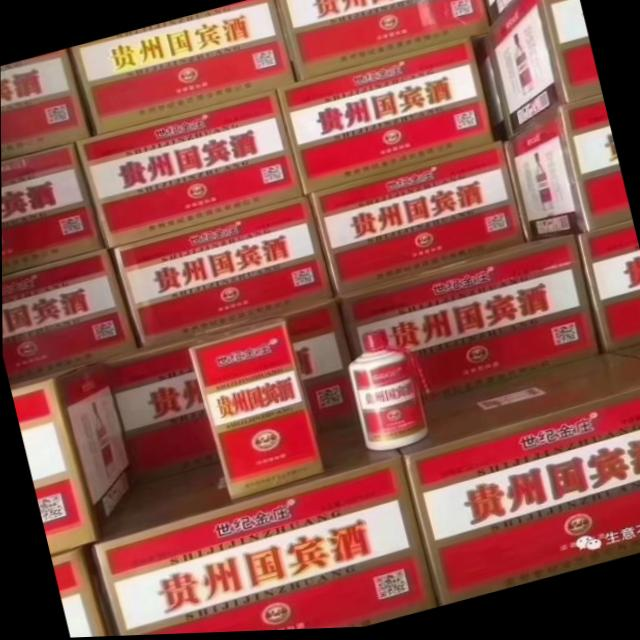box: (92, 426, 437, 637), (396, 359, 640, 609), (336, 239, 599, 406), (75, 90, 304, 250), (110, 196, 335, 349), (277, 40, 494, 197), (309, 142, 525, 298), (69, 0, 296, 135), (187, 317, 325, 501), (9, 360, 133, 553), (2, 248, 140, 384), (274, 0, 491, 84), (509, 98, 632, 244), (106, 334, 220, 487), (485, 0, 602, 142), (1, 142, 105, 275), (282, 301, 360, 438), (0, 48, 90, 159), (577, 225, 640, 358)
